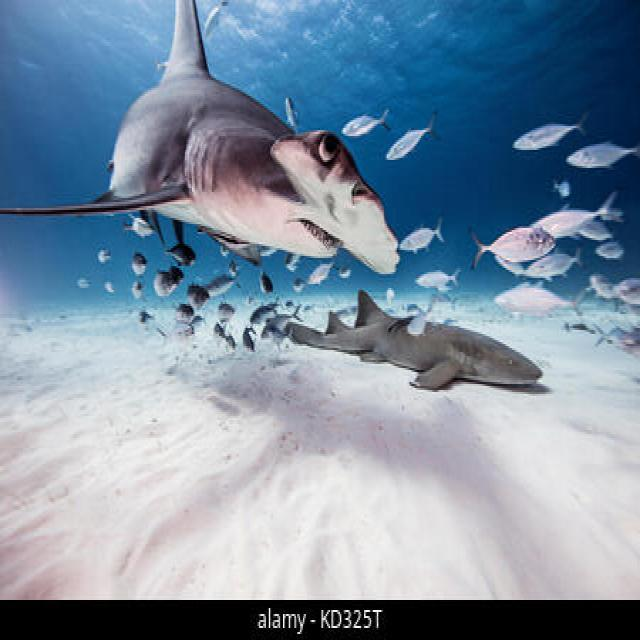Shark: (260, 274, 549, 424)
